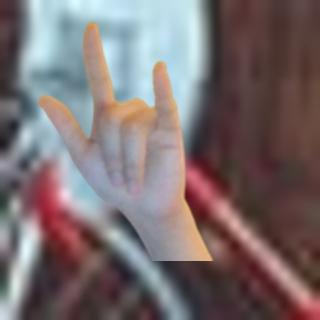ILY: (32, 17, 196, 221)
